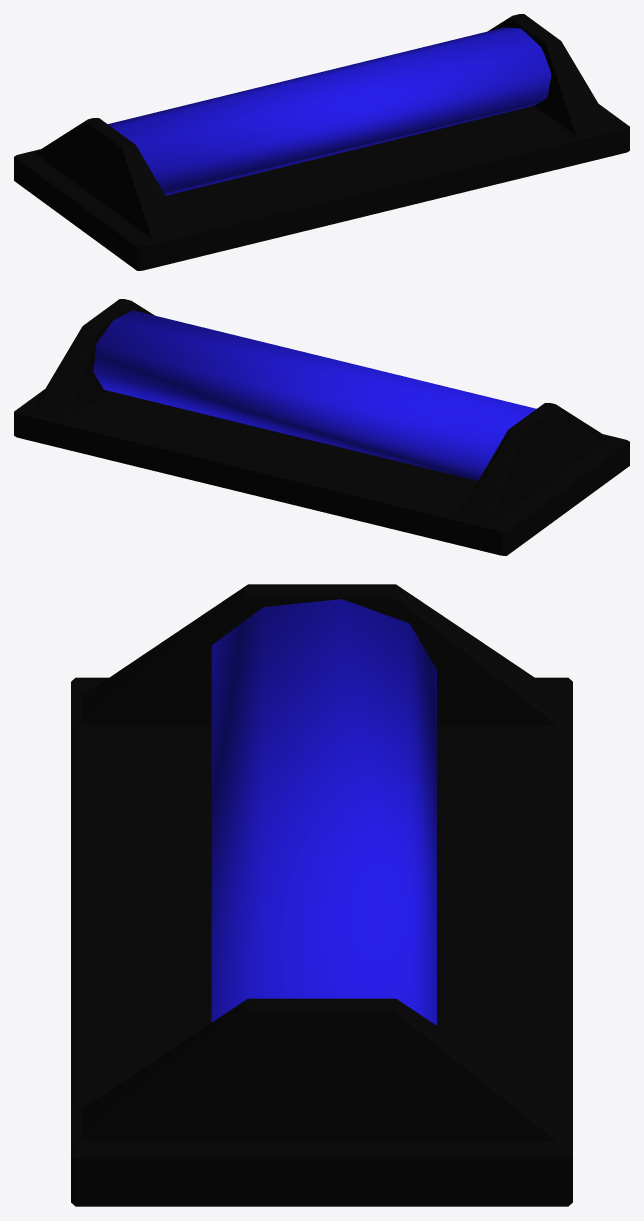
Rendered from blue_wall_night_light.fbx.
3 renders of one model, top to bottom at view 1: azimuth 30°, elevation 25°; view 2: azimuth 150°, elevation 25°; view 3: azimuth 270°, elevation 25°, orthographic. The views are drawn at different scales.
Visible parts, largest first — view 1: Cube, Cylinder; view 2: Cube, Cylinder; view 3: Cube, Cylinder.
Boxes of the visible parts, <box> form: Cube: <box>14,14,629,270</box>; Cylinder: <box>108,27,551,195</box>; Cube: <box>14,299,629,555</box>; Cylinder: <box>93,310,536,480</box>; Cube: <box>71,584,572,1206</box>; Cylinder: <box>211,599,436,1025</box>.
Bounding box in the file's own units: 169 × 28.01 × 74.49.
